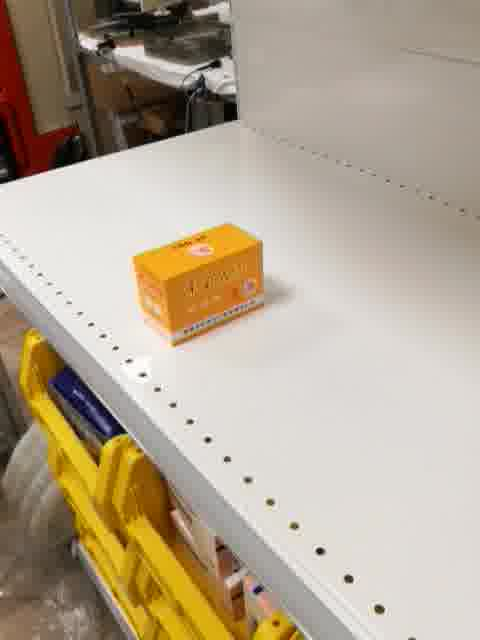jasminetea: (132, 222, 265, 347)
